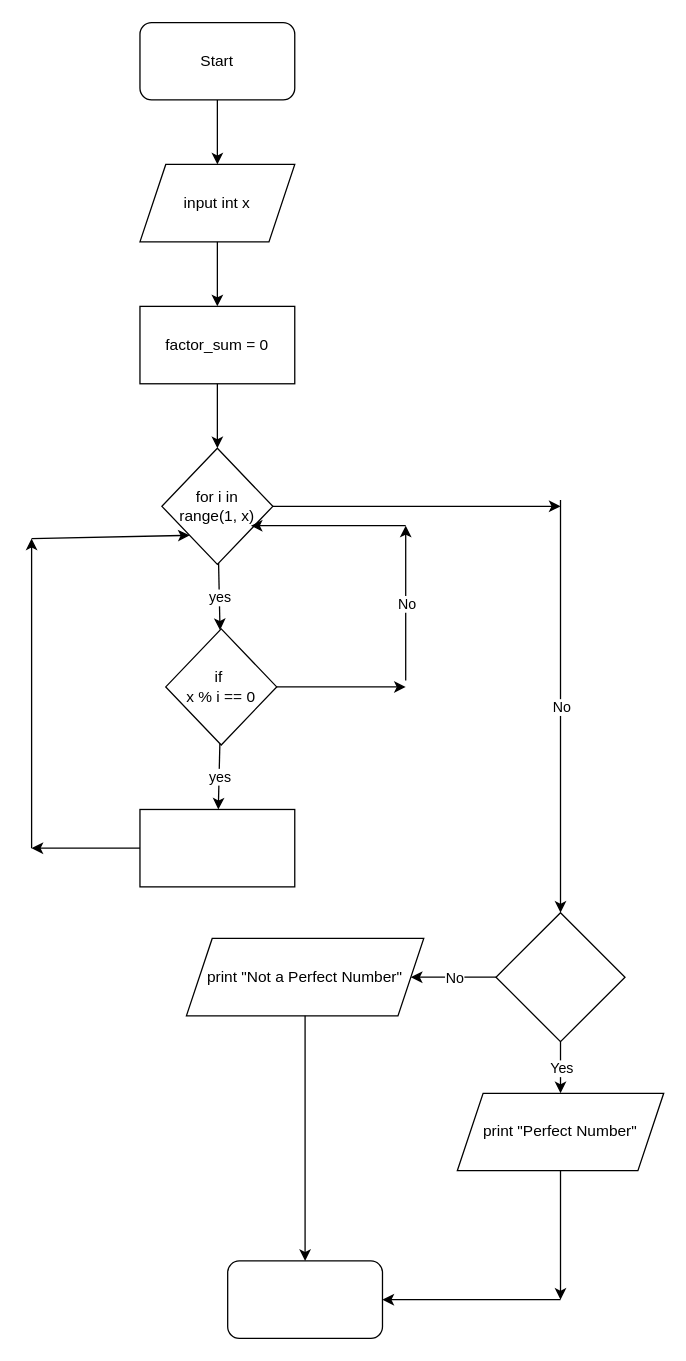
Image size: 686x1361. Some labels were removed from this diagram. The shapes that lost their labels are listed below. From the top down, each one's box as (x1, y1, x2, y2) in pixels, then its label:
(139, 808, 295, 887): factor_sum += 1
(495, 911, 625, 1042): if factor_sum == x
(226, 1260, 382, 1338): Stop
